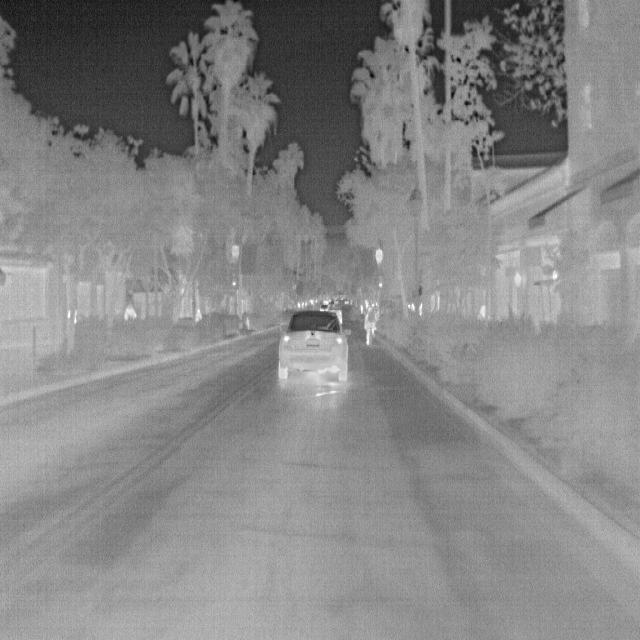Pedestrian: (363, 306, 376, 349), (196, 308, 202, 324)
Vehicle: (275, 305, 350, 385)
